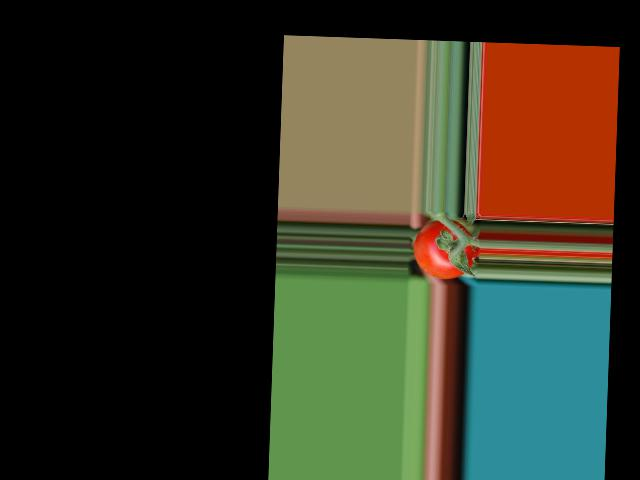tomato: (413, 218, 479, 280)
